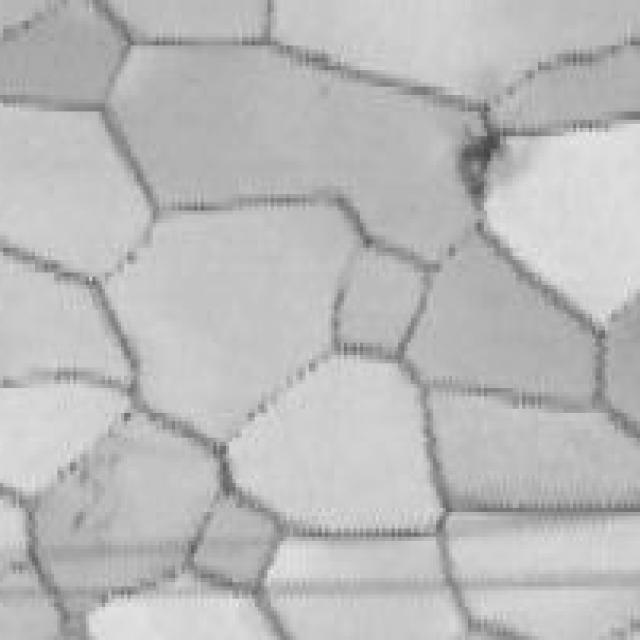good_void: (452, 125, 505, 210)
